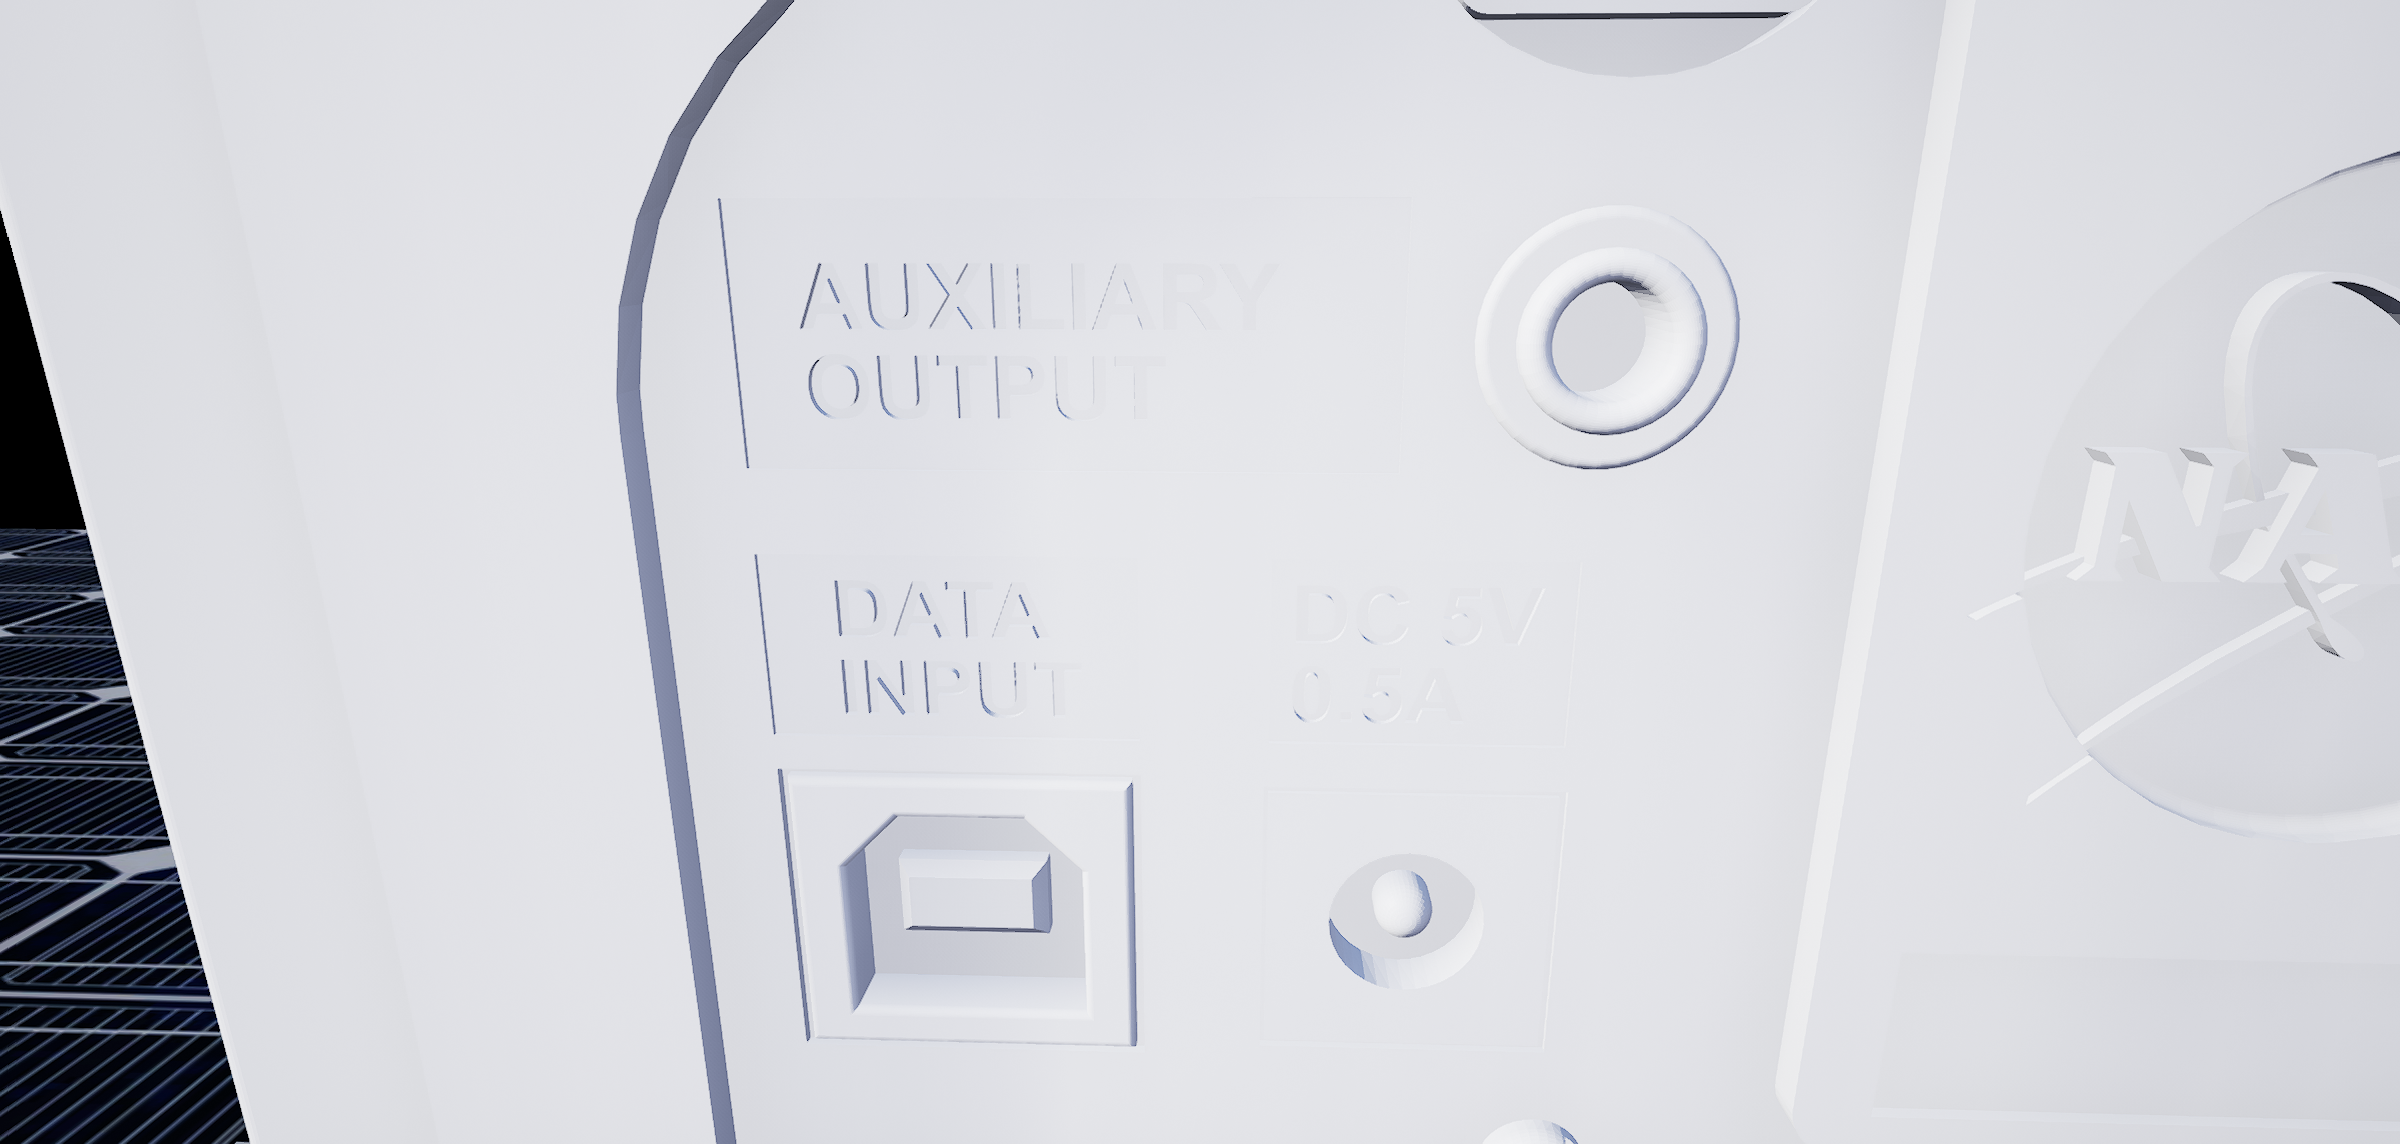aux: (1459, 194, 1762, 502)
dc: (1321, 841, 1495, 1006)
usb: (830, 809, 1104, 1012)
